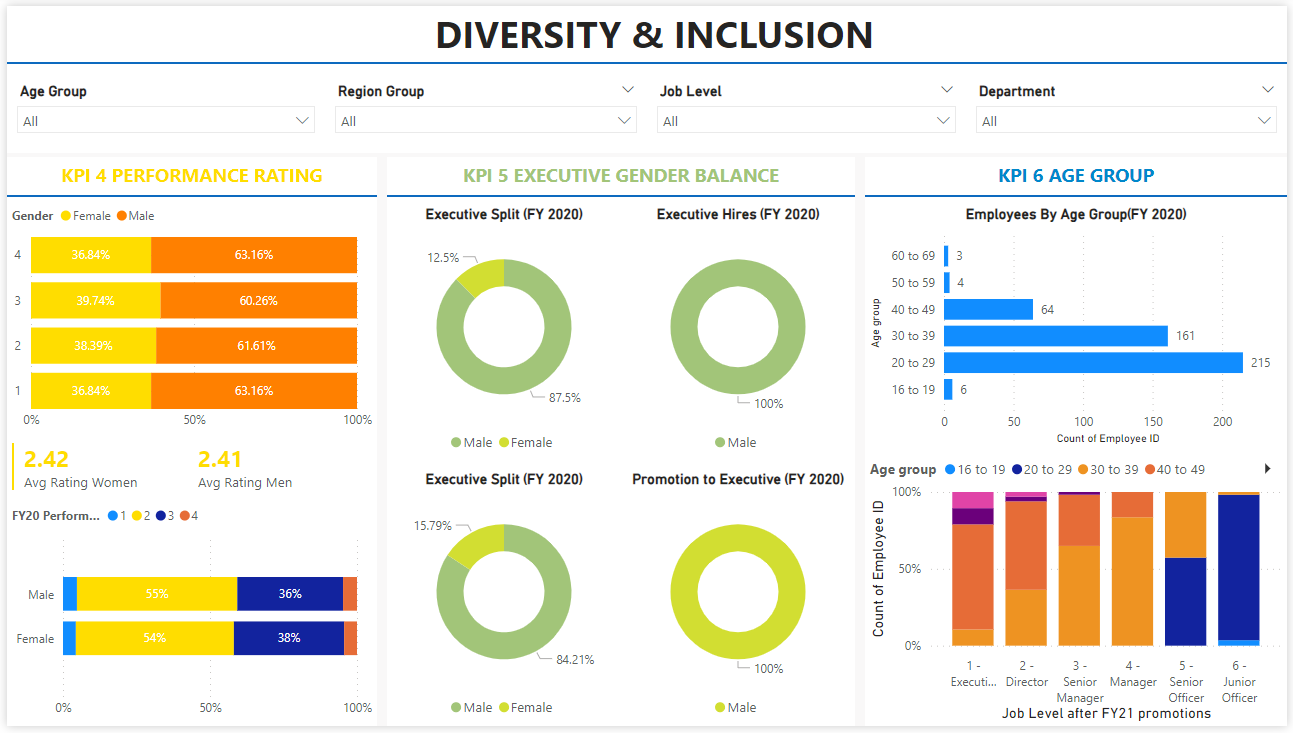

What the dashboard file says about the page in this screenshot:
{"tool":"powerbi","page":{"name":"Dashboard 2","canvas":[1280,720],"ordinal":1},"visuals":[{"type":"textbox","box":[0,0,1280,57],"z":0},{"type":"slicer","fields":{"Values":["Pharma.Last Department in FY20"]},"box":[959,57,321,90],"z":1000},{"type":"slicer","fields":{"Values":["Pharma.Job Level after FY20 promotions"]},"box":[640,57,319,90],"z":2000},{"type":"slicer","fields":{"Values":["Pharma.Age group"]},"box":[0,57,318,90],"z":3000},{"type":"slicer","fields":{"Values":["Pharma.Broad region group: nationality 1"]},"box":[318,57,322,90],"z":4000},{"type":"shape","box":[0,45,1280,24],"z":5000},{"type":"hundredPercentStackedBarChart","fields":{"Category":["Pharma.FY20 Performance Rating"],"Y":["CountNonNull(Pharma.Employee ID)"],"Series":["Pharma.Gender"]},"box":[0,190,370,242],"z":6000},{"type":"hundredPercentStackedBarChart","fields":{"Category":["Pharma.Gender"],"Y":["CountNonNull(Pharma.Employee ID)"],"Series":["Pharma.FY20 Performance Rating"]},"box":[0,490,370,230],"z":7000},{"type":"donutChart","title":"Executive Split (FY 2020)","fields":{"Category":["Pharma.Gender"],"Y":["CountNonNull(Pharma.Employee ID)"]},"box":[380,190,234,265],"z":8000,"group":"g1"},{"type":"group","id":"g1","title":"Group 1","box":[380,190,468,530],"z":8000},{"type":"clusteredBarChart","title":"Employees By Age Group(FY 2020)","fields":{"Category":["Pharma.Age group"],"Y":["CountNonNull(Pharma.Employee ID)"]},"box":[858,190,422,253],"z":9000},{"type":"donutChart","title":"Executive Split (FY 2020)","fields":{"Category":["Pharma.Gender"],"Y":["CountNonNull(Pharma.Employee ID)"]},"box":[380,455,234,265],"z":9000,"group":"g1"},{"type":"donutChart","title":"Executive Hires (FY 2020)","fields":{"Category":["Pharma.Gender"],"Y":["CountNonNull(Pharma.Employee ID)"]},"box":[614,190,234,265],"z":10000,"group":"g1"},{"type":"hundredPercentStackedColumnChart","fields":{"Series":["Pharma.Age group"],"Category":["Pharma.Job Level after FY21 promotions"],"Y":["CountNonNull(Pharma.Employee ID)"]},"box":[858,443,422,277],"z":10000},{"type":"textbox","box":[0,151,370,39],"z":11000},{"type":"donutChart","title":"Promotion to Executive (FY 2020)","fields":{"Category":["Pharma.Gender"],"Y":["CountNonNull(Pharma.Employee ID)"]},"box":[614,455,234,265],"z":11000,"group":"g1"},{"type":"textbox","box":[380,151,468,39],"z":12000},{"type":"textbox","box":[858,151,422,39],"z":13000},{"type":"shape","box":[0,178,370,24],"z":14000},{"type":"shape","box":[380,178,468,24],"z":15000},{"type":"shape","box":[858,178,422,24],"z":16000},{"type":"multiRowCard","fields":{"Values":["Pharma.# Avg Female Rating","Pharma.# Avg Men Rating"]},"box":[0,432,370,58],"z":17000}]}

Visuals, with their boxes in screenshot pixels (x1, y1, x2, y2), scaled from the page's 1280x720 canvas onto the 1293x733 screenshot:
textbox: BBox(0, 0, 1292, 58)
slicer - Pharma.Last Department in FY20: BBox(969, 58, 1292, 150)
slicer - Pharma.Job Level after FY20 promotions: BBox(646, 58, 969, 150)
slicer - Pharma.Age group: BBox(0, 58, 321, 150)
slicer - Pharma.Broad region group: nationality 1: BBox(321, 58, 646, 150)
shape: BBox(0, 46, 1292, 70)
hundredPercentStackedBarChart - Pharma.FY20 Performance Rating x CountNonNull(Pharma.Employee ID): BBox(0, 193, 374, 440)
hundredPercentStackedBarChart - Pharma.Gender x CountNonNull(Pharma.Employee ID): BBox(0, 499, 374, 732)
"Executive Split (FY 2020)" donutChart: BBox(384, 193, 620, 463)
"Group 1" group: BBox(384, 193, 857, 732)
"Employees By Age Group(FY 2020)" clusteredBarChart: BBox(867, 193, 1292, 451)
"Executive Split (FY 2020)" donutChart: BBox(384, 463, 620, 732)
"Executive Hires (FY 2020)" donutChart: BBox(620, 193, 857, 463)
hundredPercentStackedColumnChart - Pharma.Age group x Pharma.Job Level after FY21 promotions: BBox(867, 451, 1292, 732)
textbox: BBox(0, 154, 374, 193)
"Promotion to Executive (FY 2020)" donutChart: BBox(620, 463, 857, 732)
textbox: BBox(384, 154, 857, 193)
textbox: BBox(867, 154, 1292, 193)
shape: BBox(0, 181, 374, 206)
shape: BBox(384, 181, 857, 206)
shape: BBox(867, 181, 1292, 206)
multiRowCard - Pharma.# Avg Female Rating x Pharma.# Avg Men Rating: BBox(0, 440, 374, 499)
